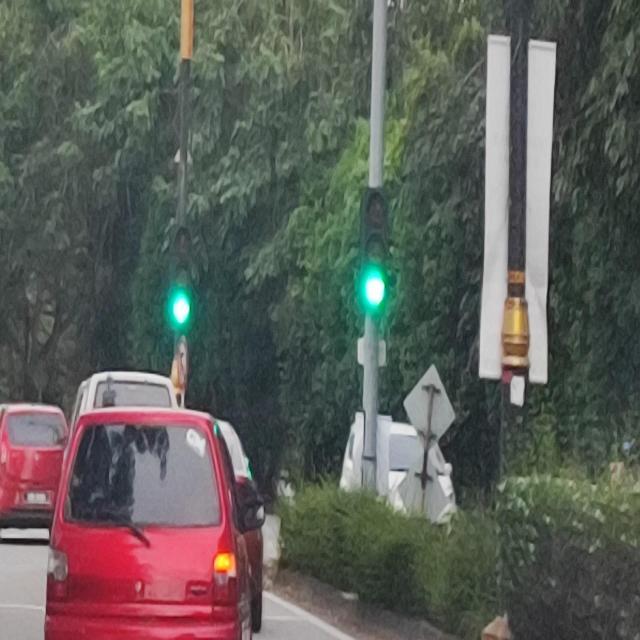car: (42, 406, 266, 640), (0, 402, 70, 542)
traffic light: (357, 187, 391, 324), (166, 268, 193, 334)
